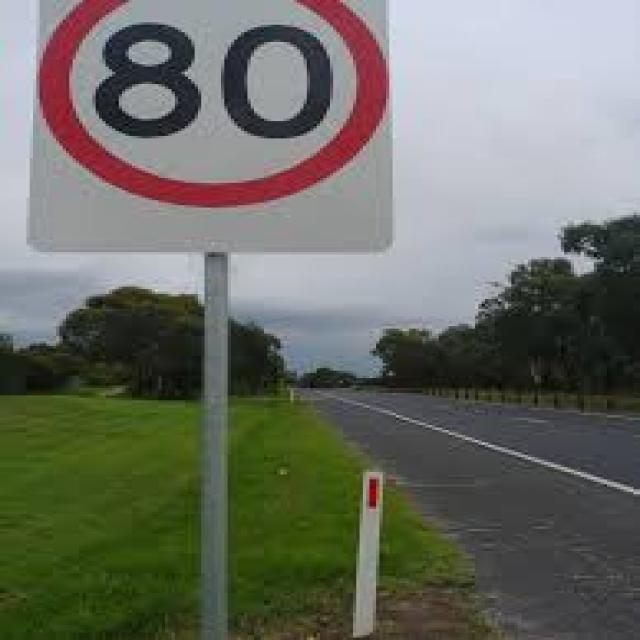SPEED_LIMIT_80: (40, 0, 386, 203)
